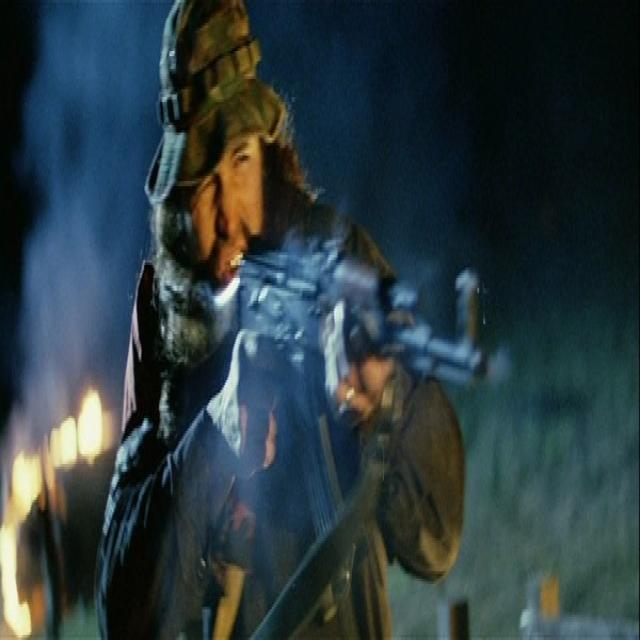rifle: (212, 232, 493, 559)
